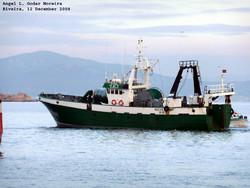otherboat: (36, 37, 238, 132)
